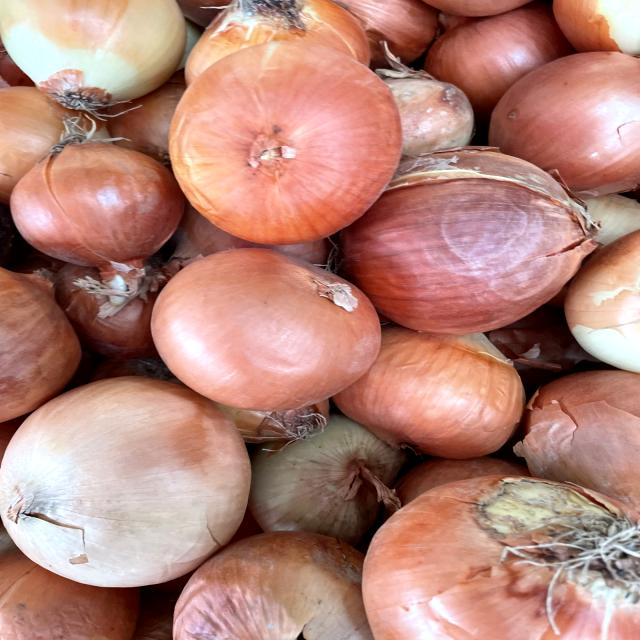onion: (0, 371, 255, 592), (156, 41, 423, 246), (145, 238, 396, 420)
